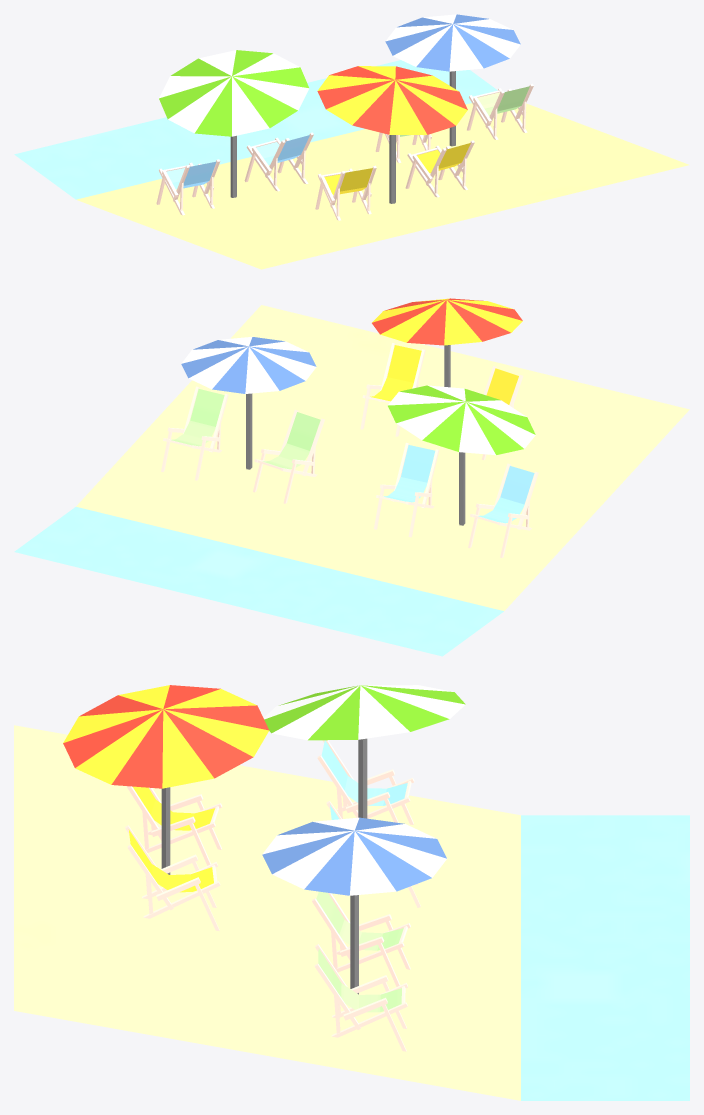
File: beach_tile_1x1_3.glb
3 views of the same model, one above another, from view 1: azimuth 30°, elevation 25°; view 2: azimuth 150°, elevation 25°; view 3: azimuth 270°, elevation 25° (orthographic). The views are drawn at different scales.
Visible parts, largest first — view 1: beach_tile_1x1_3(Clone); view 2: beach_tile_1x1_3(Clone); view 3: beach_tile_1x1_3(Clone).
Boxes of the visible parts, x1,y1,x2,y2 form: beach_tile_1x1_3(Clone): (14, 14, 689, 269); beach_tile_1x1_3(Clone): (14, 298, 689, 656); beach_tile_1x1_3(Clone): (14, 685, 689, 1100).
Bounding box in the file's own units: 8 × 3.03 × 8.
1 material, 1 textured.
